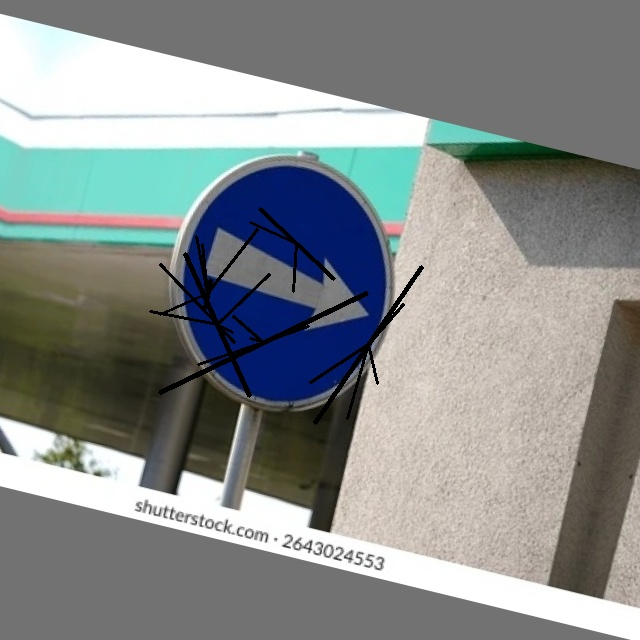Compulsory_Turn_Right: (148, 131, 429, 437)
